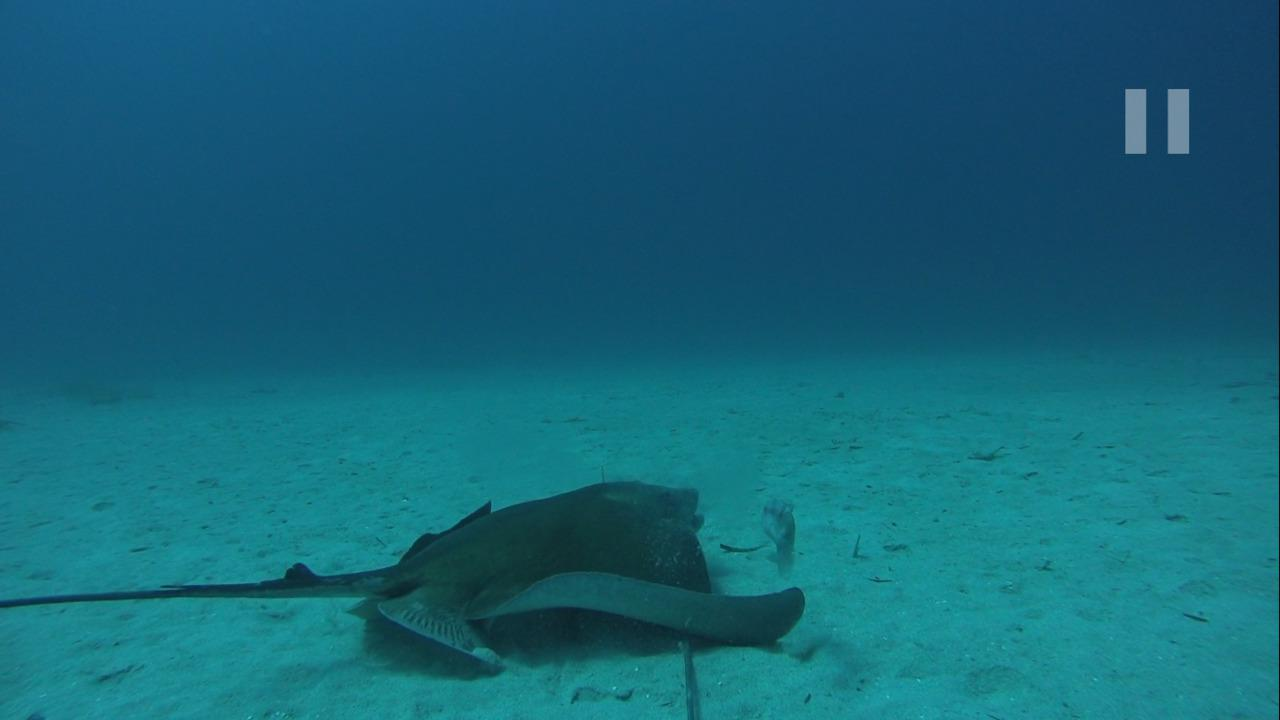myliobatis: (9, 475, 808, 677)
raor: (745, 489, 804, 565)
